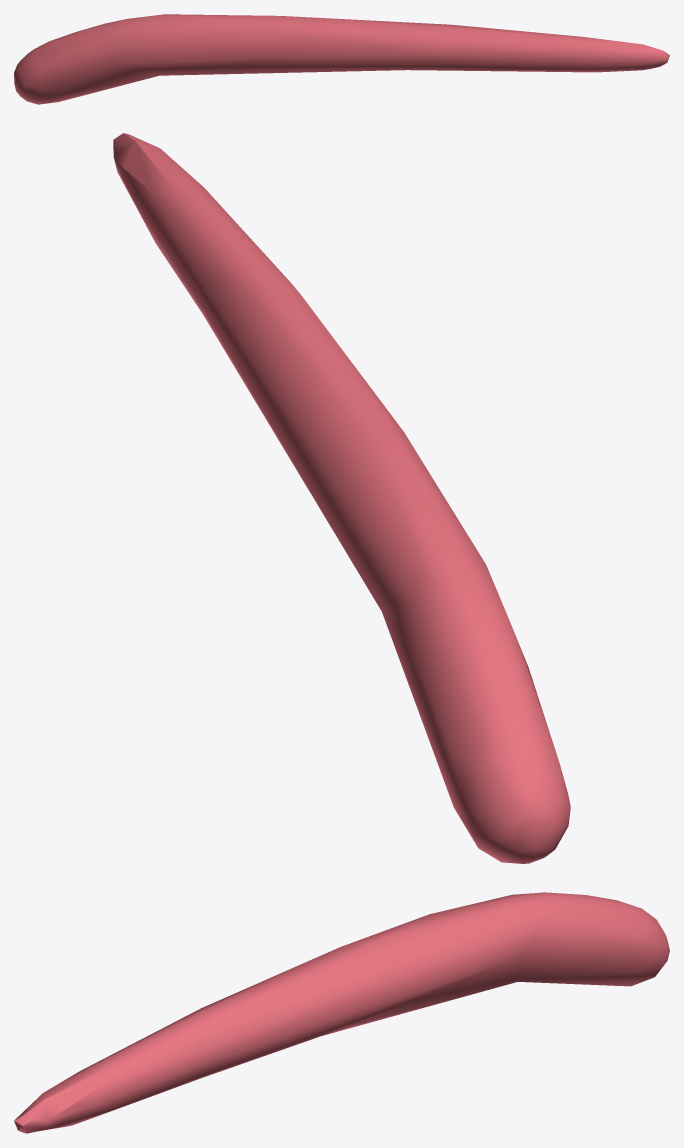
Rendered from fma8666_fj6031.glb.
3 views of the same model, one above another, from view 1: azimuth 30°, elevation 25°; view 2: azimuth 150°, elevation 25°; view 3: azimuth 270°, elevation 25° (orthographic). The views are drawn at different scales.
Parts seen in each view (by area): view 1: FMA8666_FJ6031; view 2: FMA8666_FJ6031; view 3: FMA8666_FJ6031.
Part boxes in pixels (left/top/right/bottom): FMA8666_FJ6031: left=14, top=14, right=669, bottom=104; FMA8666_FJ6031: left=113, top=133, right=570, bottom=863; FMA8666_FJ6031: left=14, top=892, right=669, bottom=1133.
Bounding box in the file's own units: 0.0194 × 0.00487 × 0.0177.
